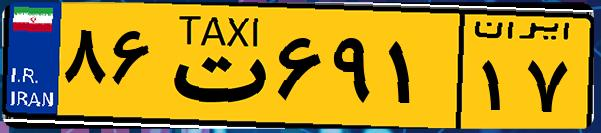1: (385, 28, 445, 110), (475, 38, 525, 113)
6: (270, 28, 330, 110), (110, 28, 158, 98)
7: (525, 38, 570, 115)
8: (57, 26, 110, 100)
9: (330, 28, 385, 110)
ت: (158, 12, 270, 120)
